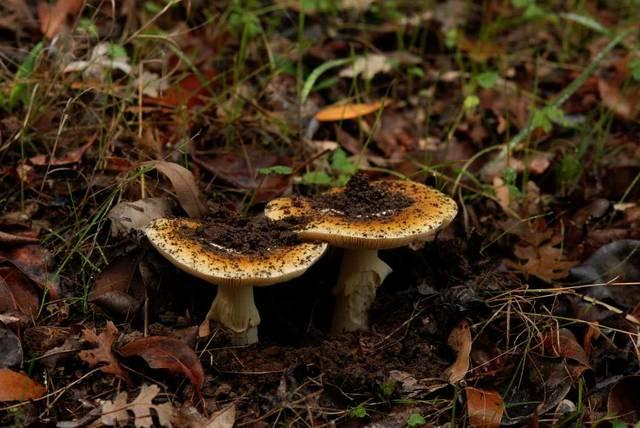Edible Mushroom: (263, 170, 458, 336), (143, 211, 328, 346)
